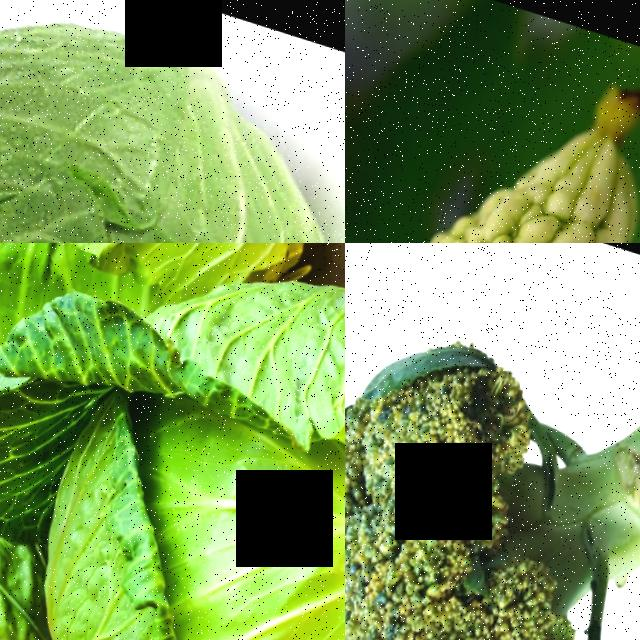bitter gourd: (345, 0, 640, 243)
broccoli: (345, 243, 640, 640)
cabbage: (0, 243, 345, 640), (0, 0, 345, 243)
